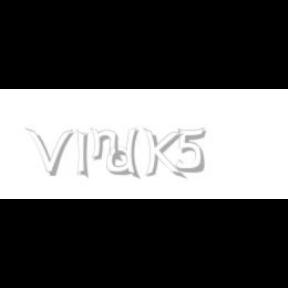5: (176, 128, 206, 174)
I: (76, 128, 89, 180)
K: (143, 128, 183, 180)
V: (26, 128, 74, 176)
d: (106, 128, 144, 180)
n: (89, 128, 123, 162)
